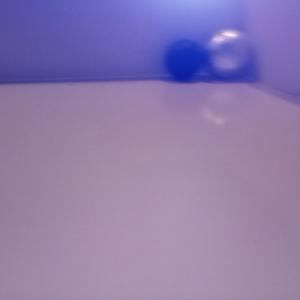alive_ball: (203, 27, 250, 78)
dead_ball: (163, 38, 205, 79)
